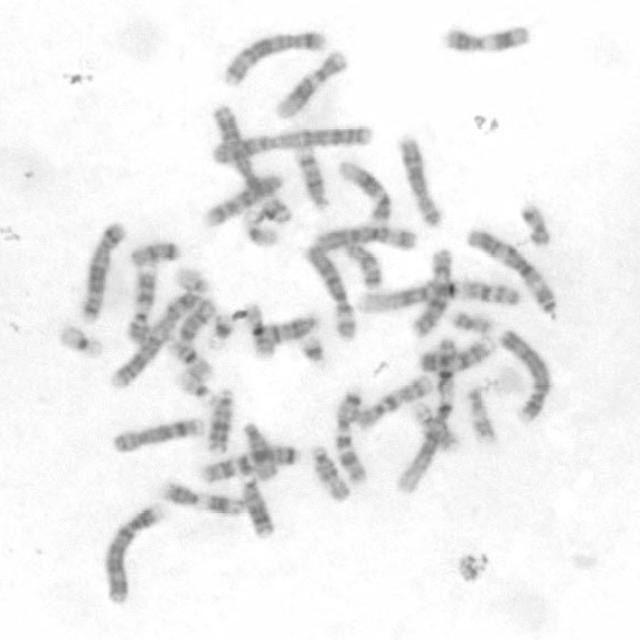A1: (392, 337, 458, 497), (357, 279, 520, 314)
A2: (109, 290, 218, 390), (206, 124, 375, 164)
A3: (212, 104, 293, 224), (466, 229, 557, 314)
B4: (103, 502, 168, 604), (496, 328, 554, 425)
B5: (220, 29, 327, 86), (80, 220, 128, 320)
C10: (354, 371, 435, 431), (201, 174, 282, 229)
C11: (159, 477, 245, 517), (441, 24, 534, 55)
C12: (270, 51, 348, 120), (336, 160, 392, 223)
C6: (305, 244, 358, 339), (314, 224, 418, 253)
C7: (196, 446, 301, 482), (331, 388, 369, 485)
C8: (400, 137, 444, 226), (111, 417, 205, 453)
C9: (418, 334, 503, 374), (125, 264, 158, 344)
D13: (240, 472, 278, 542), (204, 386, 234, 457)
D14: (294, 144, 331, 209), (265, 310, 322, 344)
D15: (310, 446, 352, 506), (243, 421, 280, 480)
E16: (168, 336, 215, 381), (245, 302, 276, 360)
E17: (409, 397, 458, 452), (464, 385, 499, 444)
E18: (343, 241, 385, 289), (128, 240, 182, 267)
F19: (238, 207, 279, 246), (174, 315, 202, 359)
F20: (518, 201, 551, 246), (451, 309, 493, 336)
G21: (207, 311, 235, 350), (300, 333, 327, 364)
G22: (57, 323, 104, 359), (172, 263, 212, 294)
X: (412, 246, 454, 335)
